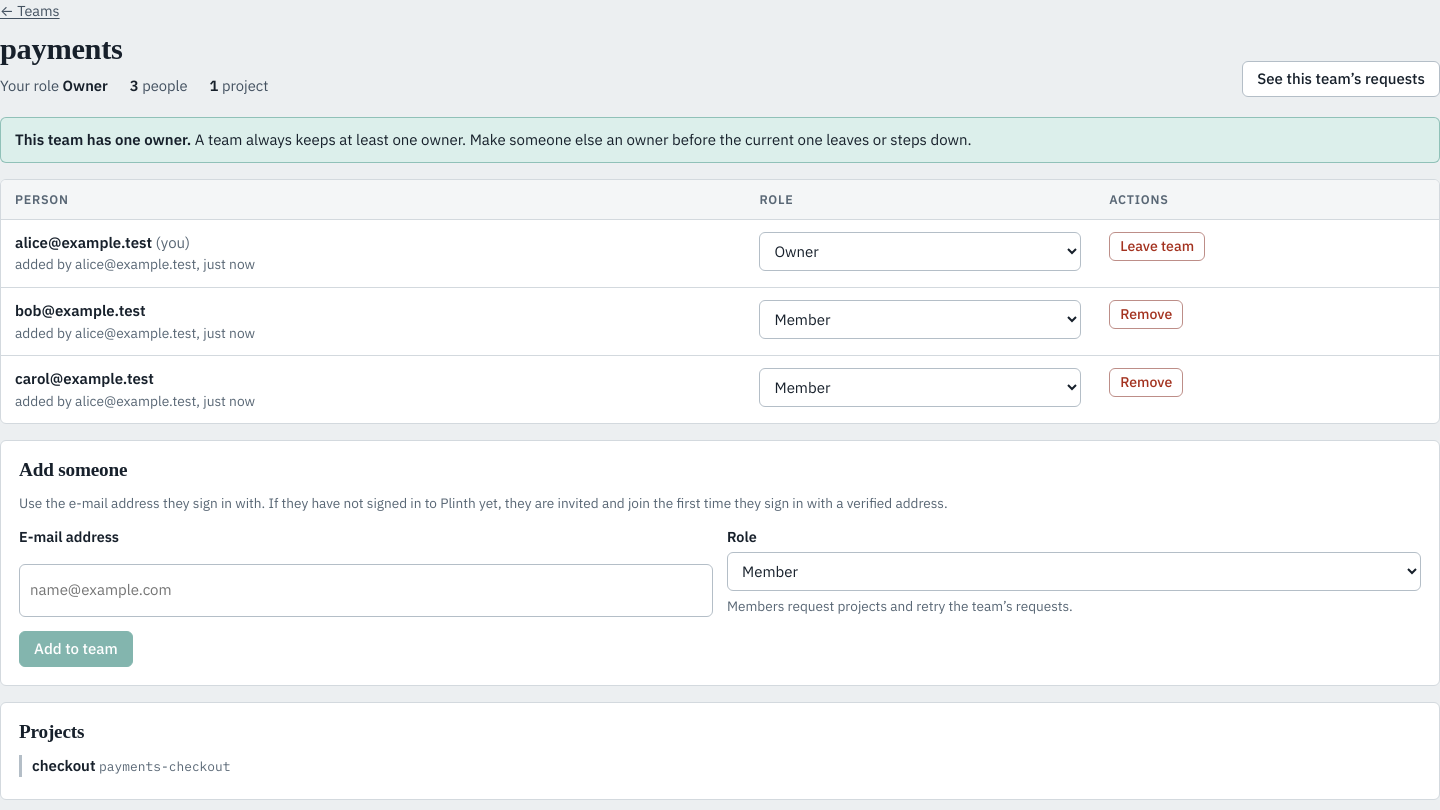
Scenario: team page for an owner › explains why the last owner cannot step down
The width and height of the screenshot is (1440, 810).
Select "Member" in the dropdown named "Role of alice@example.test" at (920, 251), box [760,232,1081,271]
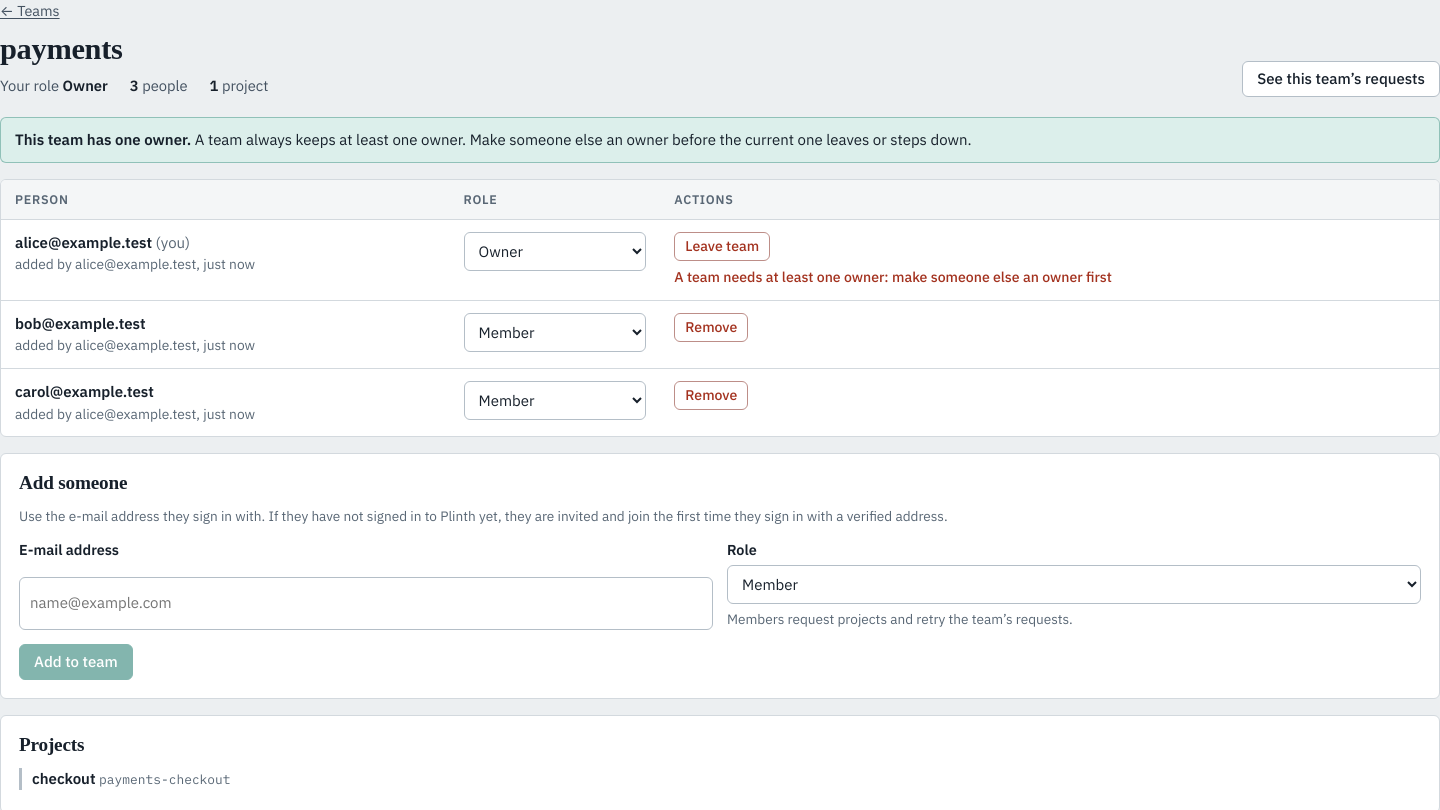
Expected: the text "A team needs at least one owner: make someone else an owner first" is shown, [674,268,1112,286]
